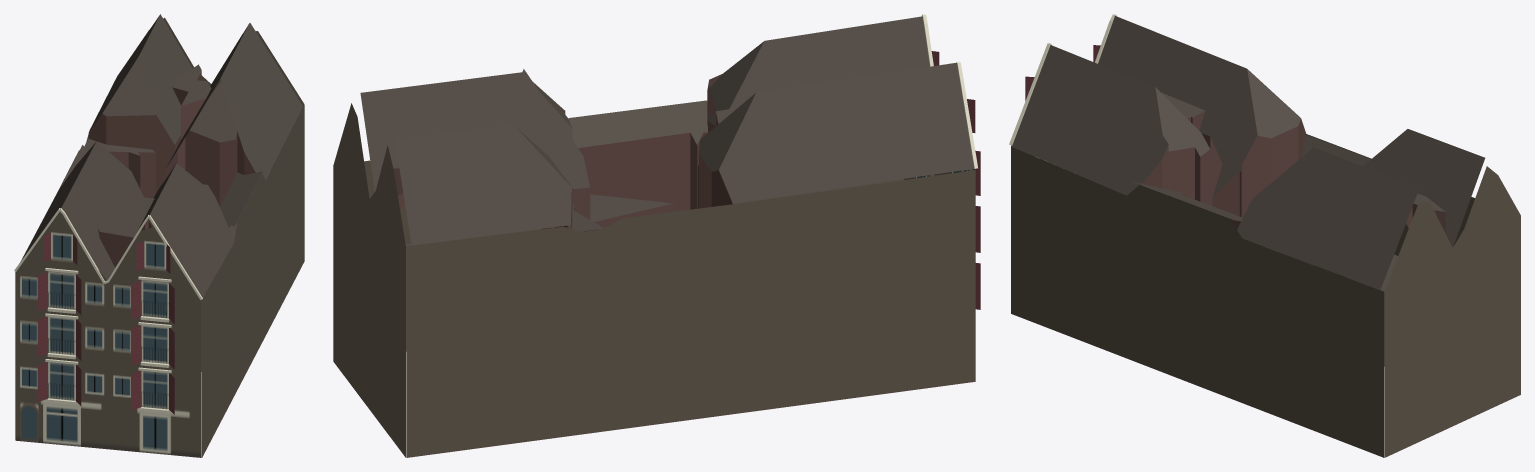
The picture shows the model from 3 angles, left to right: view 1: azimuth 30°, elevation 25°; view 2: azimuth 150°, elevation 25°; view 3: azimuth 270°, elevation 25°; orthographic projection. The views are drawn at different scales.
Visible parts, largest first — view 1: 0363100012177576; view 2: 0363100012177576; view 3: 0363100012177576.
Part boxes in pixels (left/top/right/bottom): 0363100012177576: left=14, top=14, right=304, bottom=457; 0363100012177576: left=333, top=14, right=980, bottom=457; 0363100012177576: left=1009, top=14, right=1520, bottom=457.
Size of the model in its own units: 27.79 by 15.69 by 28.86.
Materials: 3 (1 with a texture image).
